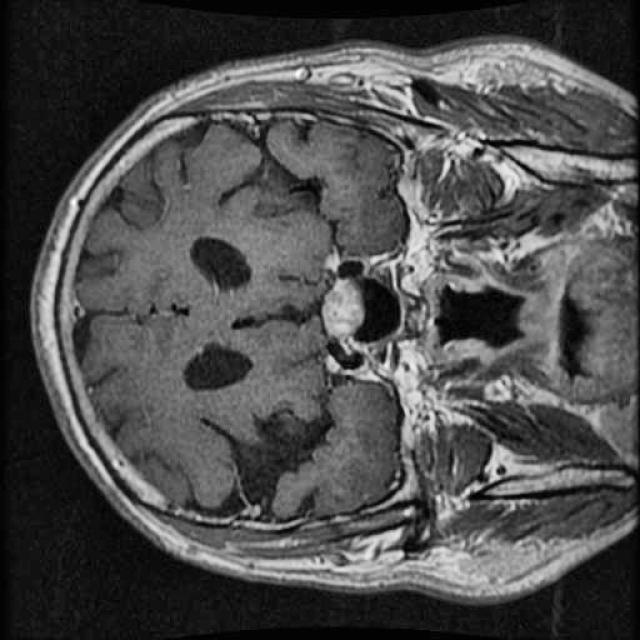Tumor: (314, 262, 371, 349)
